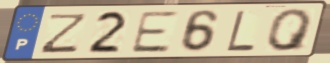2: (86, 9, 131, 56)
6: (178, 8, 221, 54)
E: (128, 9, 180, 54)
L: (225, 9, 257, 53)
Q: (265, 7, 315, 53)
Z: (37, 12, 91, 55)
